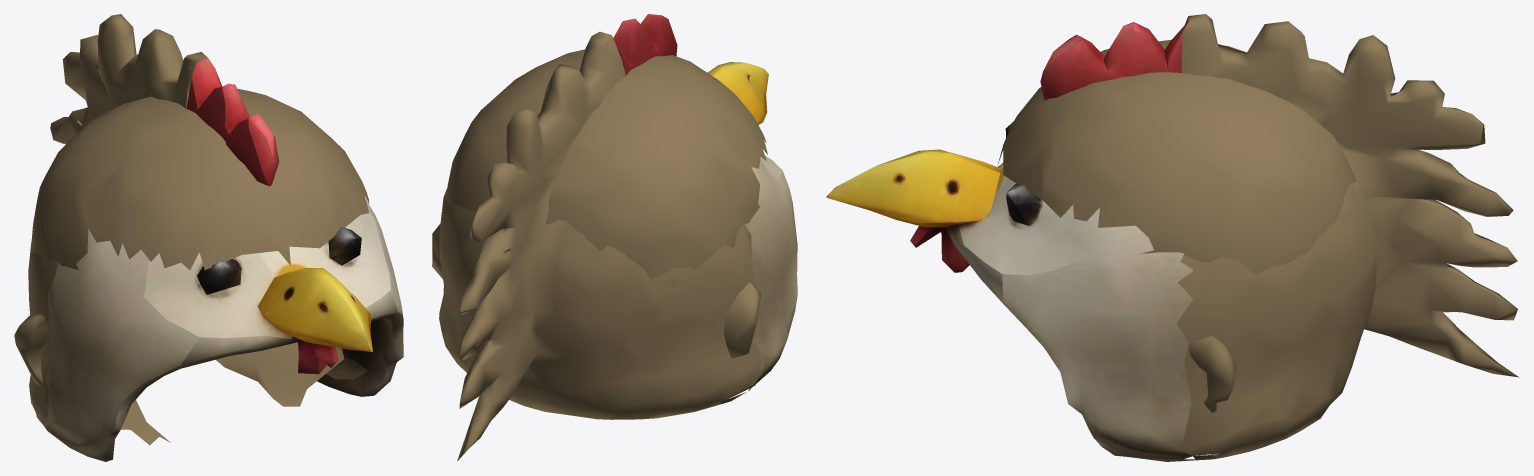
The model's file is chicken.glb.
3 renders of one model, left to right at view 1: azimuth 30°, elevation 25°; view 2: azimuth 150°, elevation 25°; view 3: azimuth 270°, elevation 25°, orthographic. The views are drawn at different scales.
Parts seen in each view (by area): view 1: geometry_0, HoodAnatomicalLining; view 2: geometry_0, HoodAnatomicalLining; view 3: geometry_0, HoodAnatomicalLining.
Boxes of the visible parts, box(x1,y1,x2,y2) form: geometry_0: box(28, 14, 403, 461); HoodAnatomicalLining: box(14, 88, 369, 445); geometry_0: box(439, 14, 797, 461); HoodAnatomicalLining: box(432, 49, 767, 358); geometry_0: box(826, 14, 1518, 461); HoodAnatomicalLining: box(998, 39, 1356, 412).
Size of the model in its own units: 0.4603 by 0.464 by 0.7715.
Materials: 2 (1 with a texture image).
